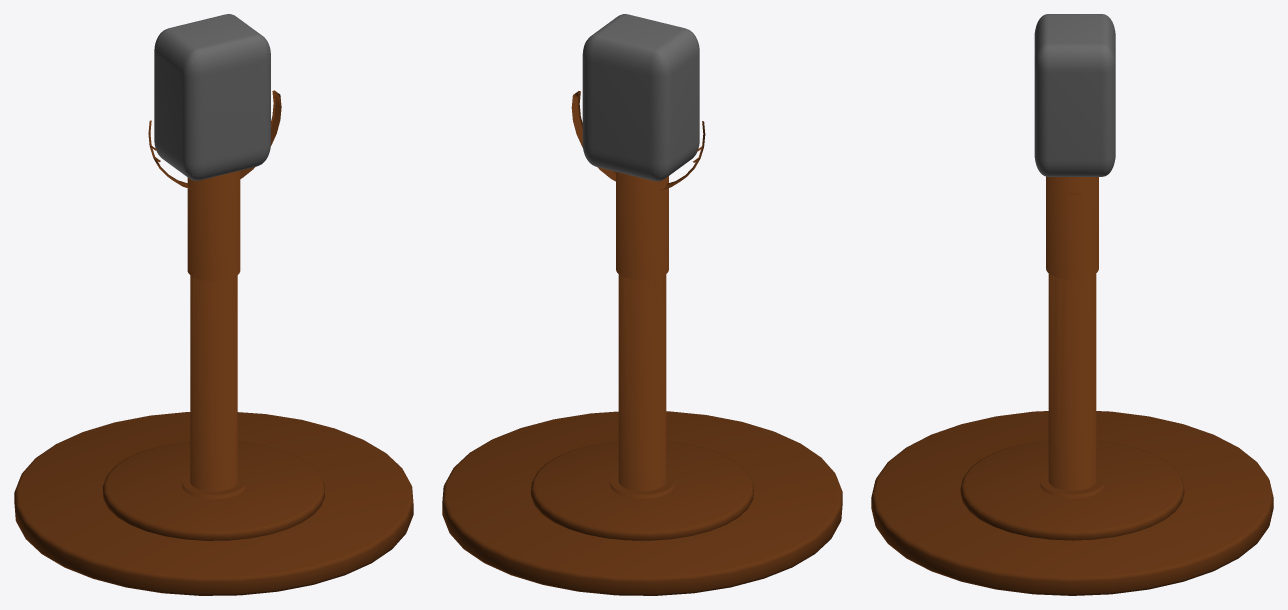
Rendered from Microphone.fbx.
3 renders of one model, left to right at view 1: azimuth 30°, elevation 25°; view 2: azimuth 150°, elevation 25°; view 3: azimuth 270°, elevation 25°, orthographic.
Visible parts, largest first — view 1: Circle, Circle.001, Cube; view 2: Circle, Cube, Circle.001; view 3: Circle, Circle.001, Cube.
Part boxes in pixels (<box>): Circle: <box>14,412,413,595</box>; Circle.001: <box>148,90,281,499</box>; Cube: <box>154,14,270,180</box>; Circle: <box>442,411,842,595</box>; Cube: <box>582,14,699,181</box>; Circle.001: <box>571,91,705,498</box>; Circle: <box>871,411,1273,595</box>; Circle.001: <box>1040,176,1104,498</box>; Cube: <box>1034,14,1115,176</box>.
Size of the model in its own units: 200 by 265 by 200.
